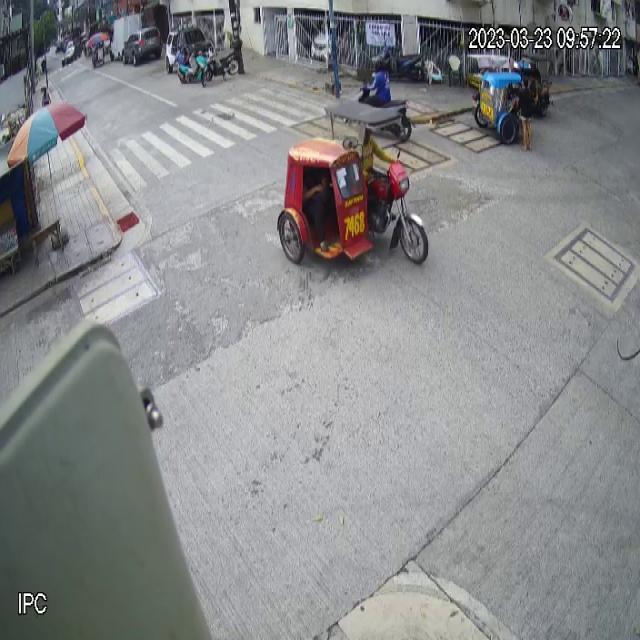Tricycle: (276, 96, 430, 277)
